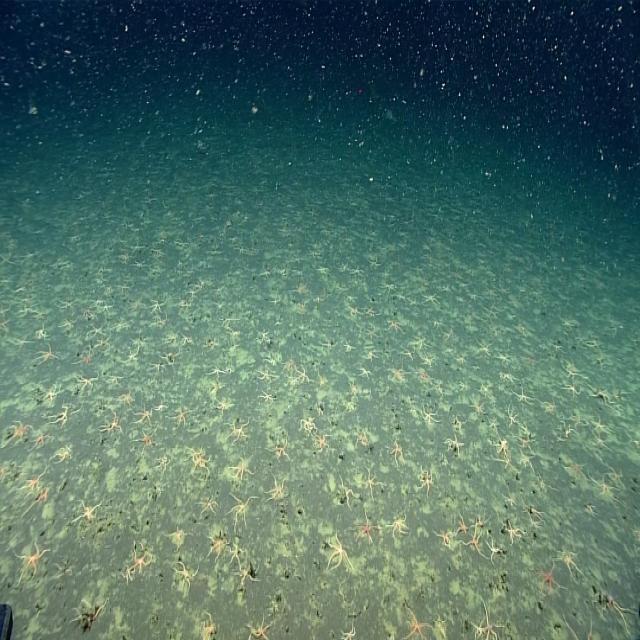brittle-stars: (583, 470, 624, 513), (476, 587, 504, 640), (399, 601, 432, 640), (13, 539, 47, 576), (532, 559, 562, 600), (328, 531, 352, 580), (600, 588, 630, 626), (190, 446, 217, 481), (26, 421, 52, 455), (356, 517, 382, 549), (588, 380, 613, 413), (24, 462, 46, 499), (522, 499, 550, 528), (272, 425, 292, 465), (199, 488, 220, 526), (254, 384, 280, 414), (559, 376, 585, 406), (418, 399, 439, 436), (227, 416, 250, 449), (243, 612, 270, 640), (169, 522, 191, 556), (227, 460, 254, 487), (560, 542, 580, 578), (78, 498, 100, 530), (336, 474, 355, 511), (5, 417, 28, 447), (389, 514, 412, 544), (1, 450, 21, 484), (74, 372, 101, 397), (444, 429, 465, 461), (132, 543, 152, 576), (78, 342, 100, 372), (474, 335, 496, 365), (42, 378, 63, 408), (388, 436, 409, 466), (123, 344, 146, 371), (470, 502, 488, 536), (104, 411, 125, 440), (206, 528, 225, 560), (234, 495, 252, 528), (237, 562, 255, 594), (80, 300, 98, 332), (362, 466, 380, 498), (488, 435, 510, 461), (176, 400, 192, 435), (53, 403, 76, 427), (295, 366, 315, 393), (468, 526, 483, 562), (486, 538, 504, 568), (30, 488, 54, 510), (497, 369, 521, 391), (215, 395, 235, 421), (506, 517, 521, 551), (610, 461, 627, 491), (504, 405, 522, 433), (178, 564, 194, 594), (176, 328, 196, 352), (414, 364, 434, 388), (269, 475, 287, 501), (97, 329, 114, 356), (436, 525, 454, 550), (559, 418, 577, 443), (256, 325, 272, 353), (147, 292, 167, 314), (388, 364, 408, 386), (418, 289, 441, 308), (288, 278, 307, 301), (120, 554, 132, 590), (42, 346, 58, 373), (564, 356, 581, 381), (138, 405, 158, 426), (32, 324, 52, 345), (302, 410, 316, 440), (338, 619, 358, 640), (353, 428, 372, 450), (227, 542, 245, 565), (316, 429, 330, 458), (418, 465, 432, 494), (340, 340, 360, 360), (156, 450, 172, 475), (211, 364, 230, 385), (137, 430, 155, 452), (346, 376, 364, 398), (514, 429, 532, 451), (191, 275, 208, 298), (386, 312, 403, 335), (200, 614, 215, 640), (456, 511, 468, 543), (520, 448, 534, 475), (284, 372, 302, 393), (488, 410, 499, 444), (593, 412, 609, 435), (260, 363, 274, 389), (499, 348, 516, 369), (578, 336, 603, 350), (514, 392, 533, 410), (596, 432, 610, 456), (363, 323, 379, 344), (413, 332, 428, 354), (367, 253, 385, 271), (121, 389, 136, 410), (471, 402, 486, 423), (477, 378, 490, 402), (54, 446, 72, 463), (356, 363, 373, 381), (452, 413, 468, 432), (181, 298, 196, 318), (260, 263, 274, 284), (420, 351, 437, 368), (505, 491, 517, 513), (435, 376, 445, 401), (552, 336, 562, 360), (364, 347, 378, 364), (366, 303, 379, 321), (348, 301, 360, 320), (152, 246, 165, 262), (316, 262, 328, 279), (156, 402, 166, 422), (350, 266, 364, 279), (545, 400, 558, 413), (338, 260, 348, 276), (120, 251, 131, 265), (235, 245, 249, 256), (137, 260, 145, 273), (459, 382, 466, 396)
